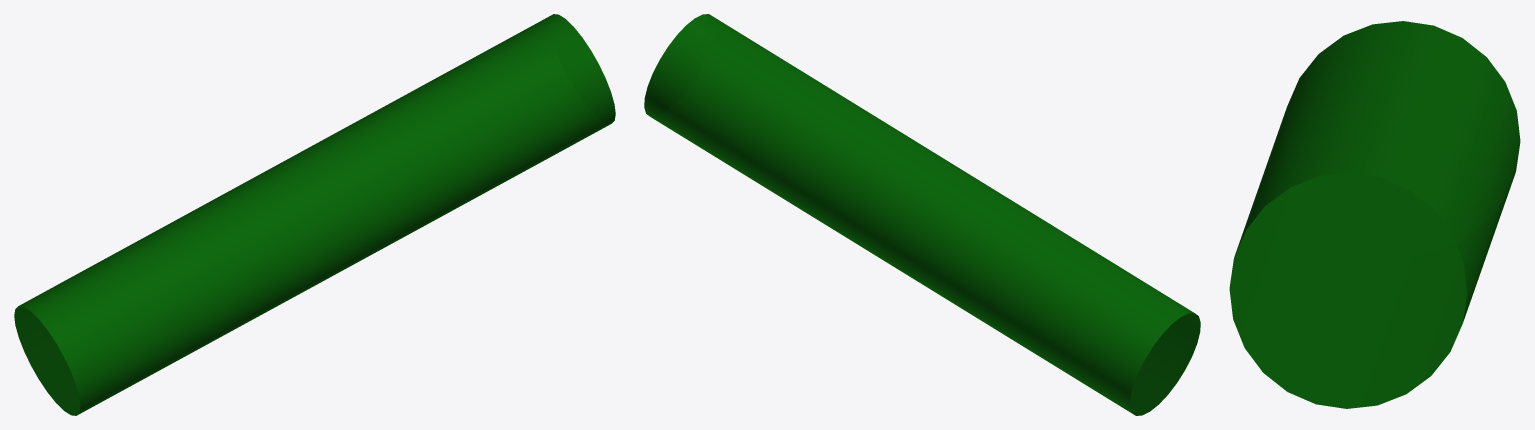
Rendered from Event_420107950_jet_2.fbx.
3 renders of one model, left to right at view 1: azimuth 30°, elevation 25°; view 2: azimuth 150°, elevation 25°; view 3: azimuth 270°, elevation 25°, orthographic. The views are drawn at different scales.
Visible parts, largest first — view 1: Model; view 2: Model; view 3: Model.
Part boxes in pixels (x1=…): Model: x1=14, y1=14, x2=615, y2=415; Model: x1=644, y1=14, x2=1200, y2=415; Model: x1=1229, y1=21, x2=1520, y2=408.
Bounding box in the file's own units: 0.2059 × 0.1002 × 0.0489.
